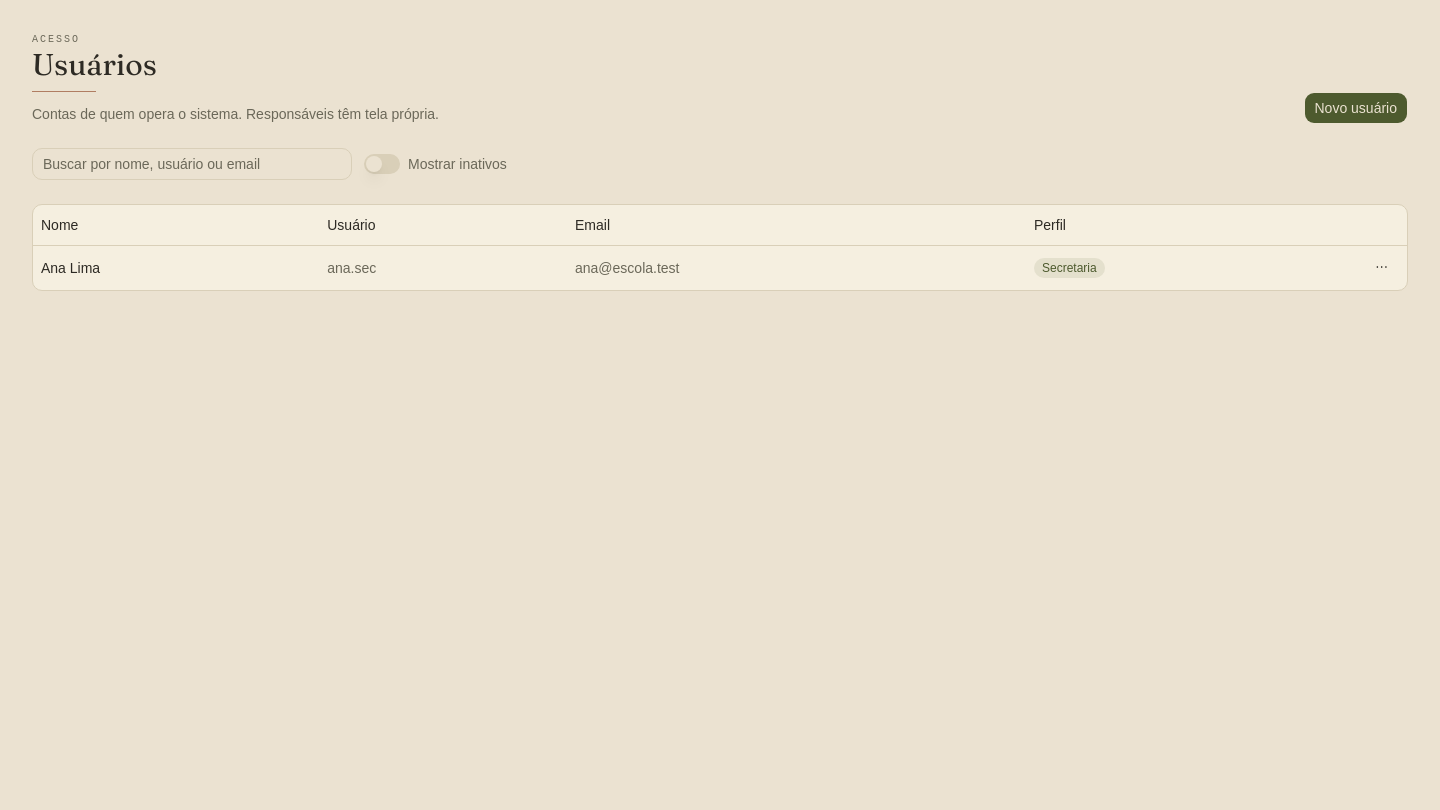
Scenario: UsuariosPage › avisa e trava o envio quando as escolas não carregam, só pro admin global
Expected: the text "Ana Lima" is shown, top-left (41, 260), bottom-right (100, 276)
Click the button "Novo usuário" at (1356, 108), box top-left (1304, 92), bottom-right (1408, 124)
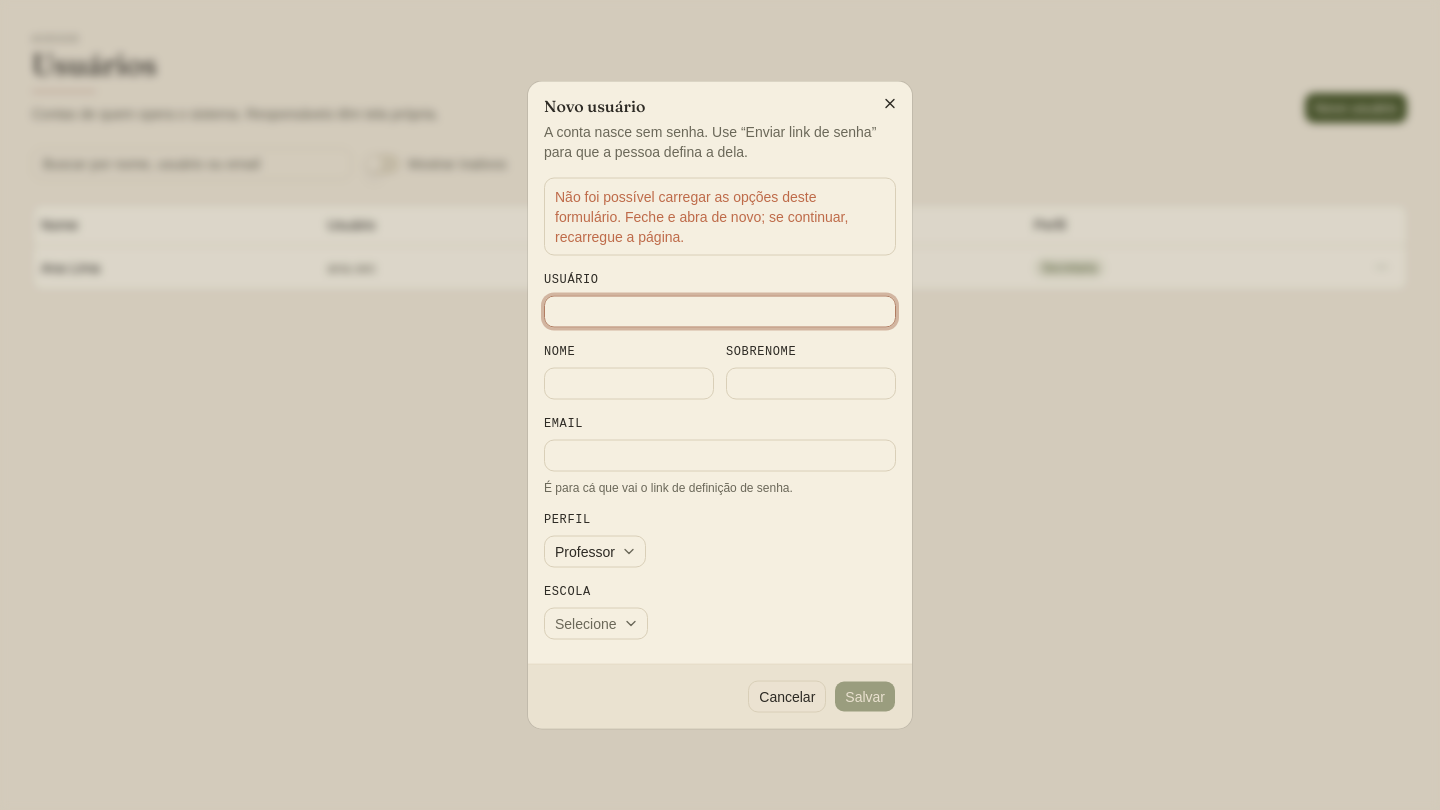
Expected: the text "Não foi possível carregar as opções" is shown, top-left (555, 188), bottom-right (848, 244)
Expected: the button "Salvar" is disabled, top-left (834, 680), bottom-right (896, 712)
